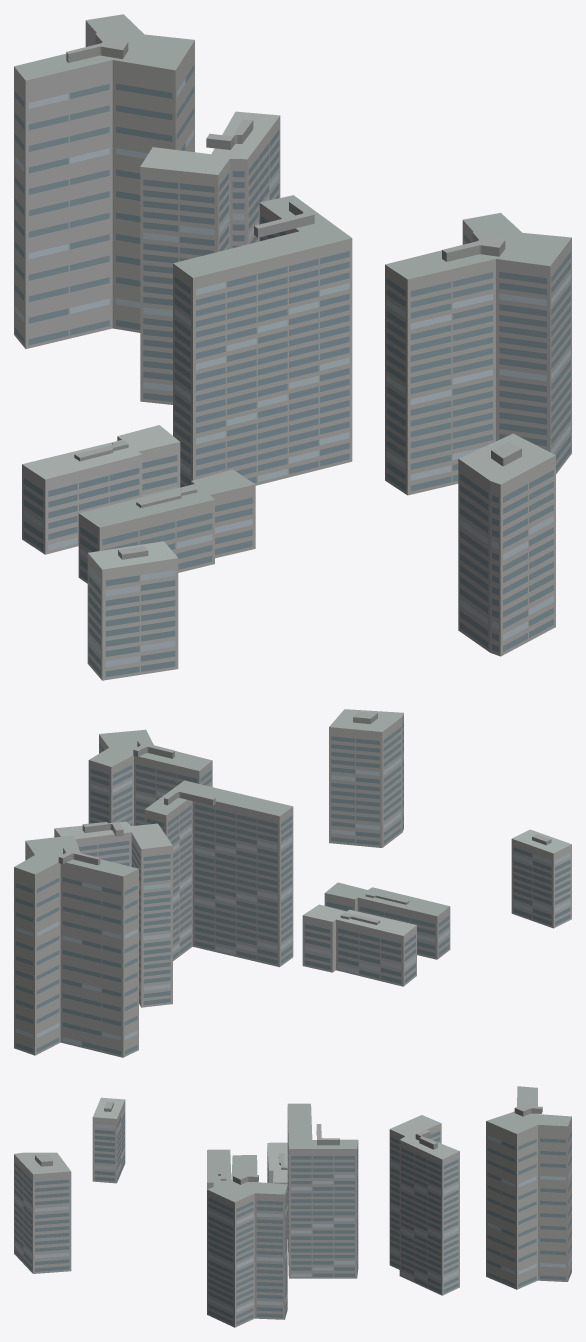
File: apt-a10028177.glb
The picture shows the model from 3 angles, top to bottom: view 1: azimuth 30°, elevation 25°; view 2: azimuth 150°, elevation 25°; view 3: azimuth 270°, elevation 25°; orthographic projection. The views are drawn at different scales.
Parts seen in each view (by area): view 1: apt-a10028177; view 2: apt-a10028177; view 3: apt-a10028177.
Part boxes in pixels (<box>): apt-a10028177: <box>14,14,571,680</box>; apt-a10028177: <box>14,709,571,1057</box>; apt-a10028177: <box>14,1086,571,1327</box>.
Bounding box in the file's own units: 163 × 74 × 232.
